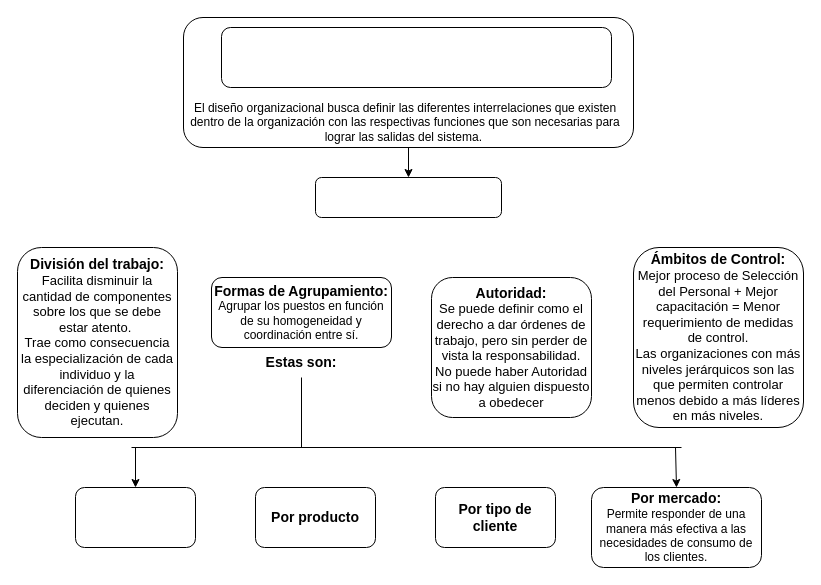
The diagram is 821 pixels wide and 585 high, and some of its shapes have lost their labels. The centre of each missing label's shape, as x and y in pixels:
"Diseño de Estructuras" goes at (416,57).
"Elementos para el diseño de la estructura:" goes at (408,197).
"Funcional: Favorece que los trabajadores puedan especializarse." goes at (135,517).
